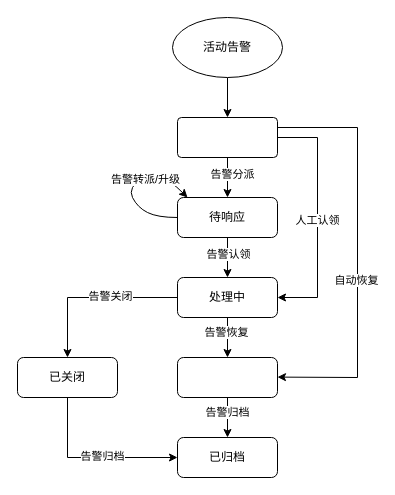
Some shapes in this 395 by 495 pixel diagram are drawn without their labels. Here are the shapes that lost their labels. From the top down, the centre of each, then its label:
At (227,137): "未分派".
At (227,377): "已恢复".
